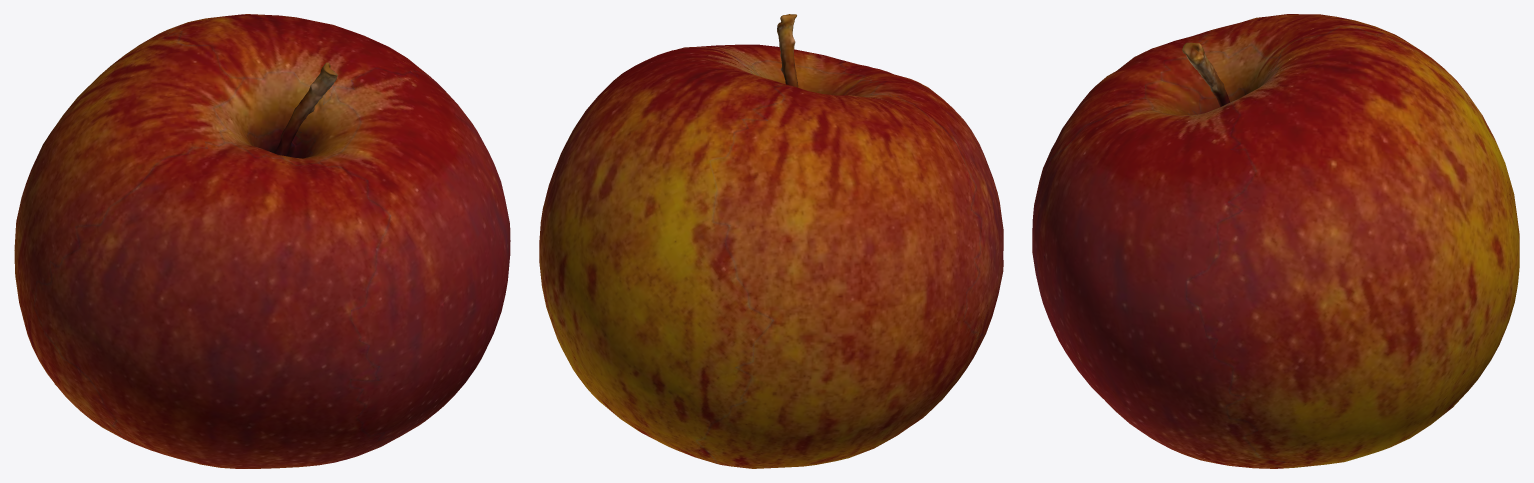
The model's file is food_apple_01.glb.
3 views of the same model, side by side, from view 1: azimuth 30°, elevation 25°; view 2: azimuth 150°, elevation 25°; view 3: azimuth 270°, elevation 25° (orthographic). The views are drawn at different scales.
Parts seen in each view (by area): view 1: food_apple_01; view 2: food_apple_01; view 3: food_apple_01.
Part boxes in pixels (bbox=[...]): food_apple_01: bbox=[14, 14, 510, 468]; food_apple_01: bbox=[539, 14, 1003, 468]; food_apple_01: bbox=[1032, 14, 1519, 468].
Bounding box in the file's own units: 0.0976 × 0.0854 × 0.0959.
1 material, 1 textured.
